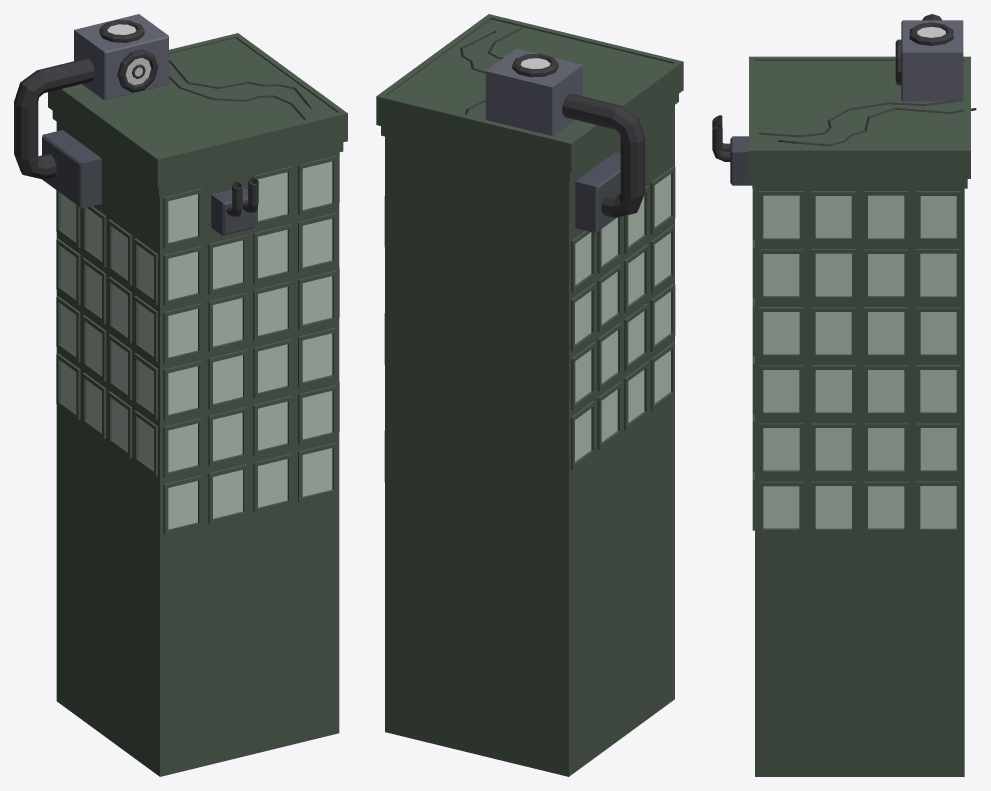
The model's file is HOUSE1.fbx.
The picture shows the model from 3 angles, left to right: view 1: azimuth 30°, elevation 25°; view 2: azimuth 150°, elevation 25°; view 3: azimuth 270°, elevation 25°; orthographic projection. The views are drawn at different scales.
Parts seen in each view (by area): view 1: Cube.003; view 2: Cube.003; view 3: Cube.003.
Part boxes in pixels (bbox=[...]): Cube.003: bbox=[14, 14, 347, 776]; Cube.003: bbox=[376, 14, 683, 776]; Cube.003: bbox=[712, 14, 976, 776].
Bounding box in the file's own units: 999 × 2660 × 936.
